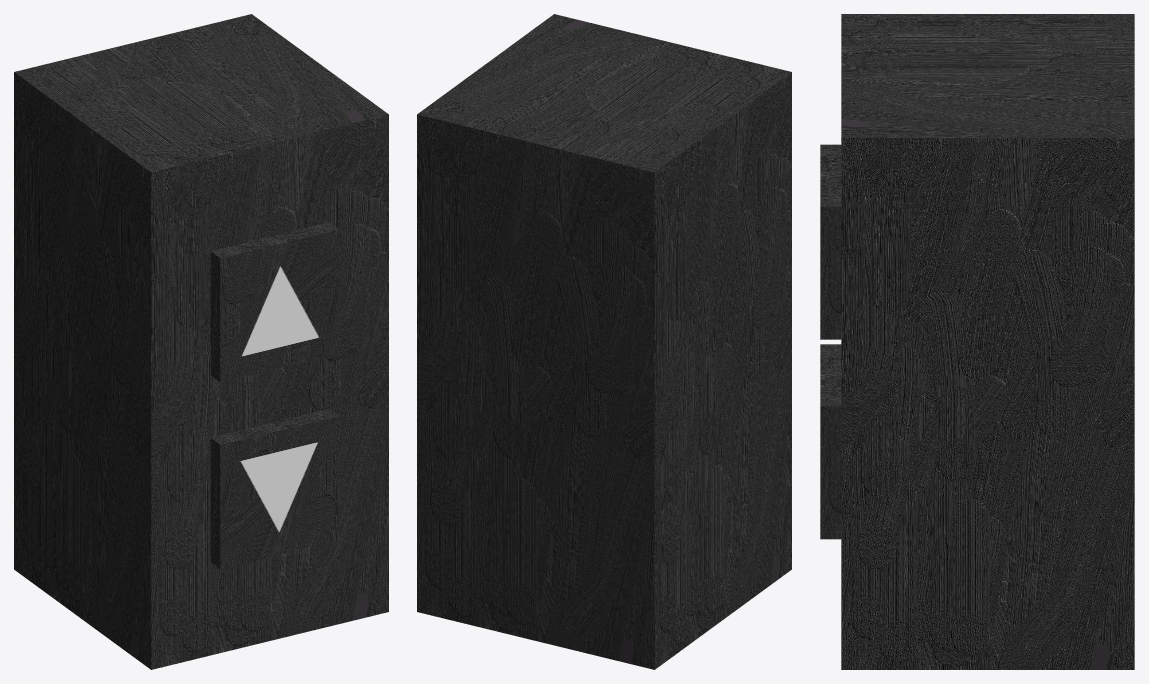
The model's file is WindowButton.fbx.
The picture shows the model from 3 angles, left to right: view 1: azimuth 30°, elevation 25°; view 2: azimuth 150°, elevation 25°; view 3: azimuth 270°, elevation 25°; orthographic projection. The views are drawn at different scales.
Parts seen in each view (by area): view 1: node_id11, node_id8 (×2), node_id5 (×2); view 2: node_id11; view 3: node_id11, node_id5, node_id8.
Part boxes in pixels (bbox=[...]): node_id11: bbox=[14, 14, 388, 669]; node_id8 (×2): bbox=[210, 222, 339, 382]; node_id5 (×2): bbox=[210, 409, 339, 569]; node_id11: bbox=[417, 14, 791, 669]; node_id11: bbox=[841, 14, 1134, 669]; node_id5: bbox=[820, 344, 841, 539]; node_id8: bbox=[820, 144, 841, 339].
Size of the model in its own units: 0.256 by 0.512 by 0.2742.
5 materials, 5 textured.
